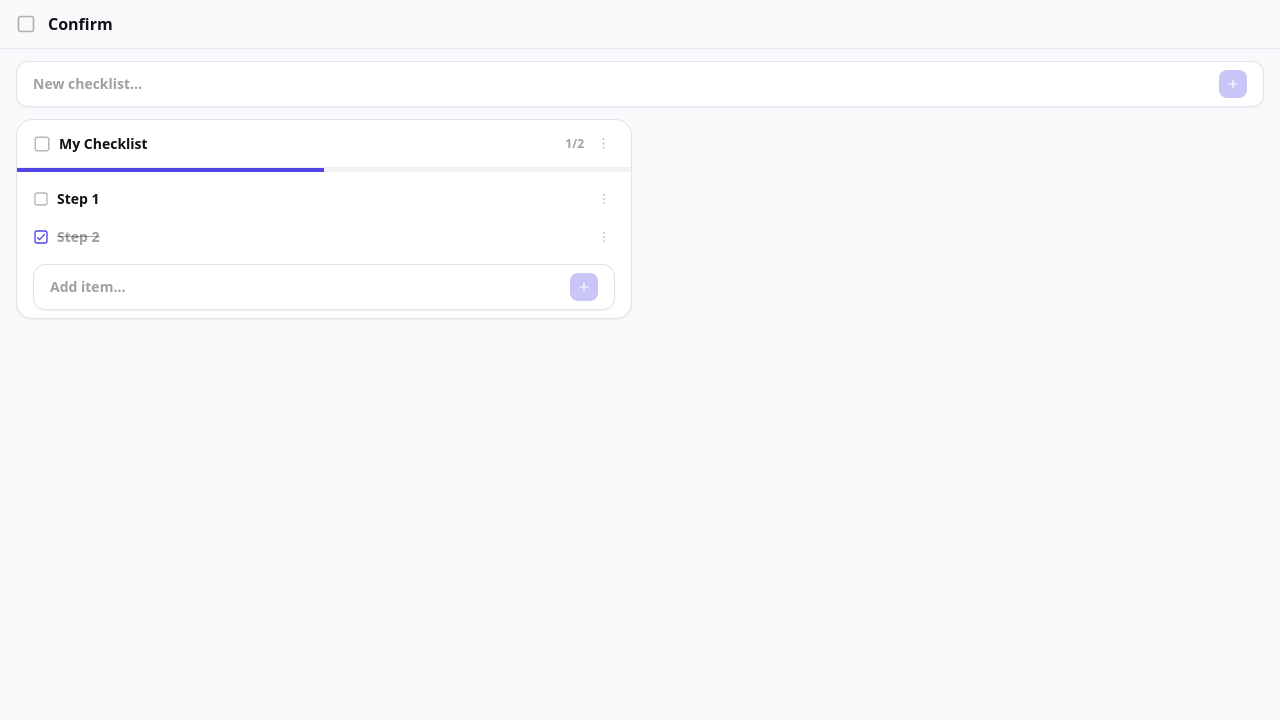
Test: Confirm › 4d-8: bulk mode toggle on checklist card shows checked icon
Click the button named "Toggle bulk select".
click(42, 144)  # box [33,134,51,152]
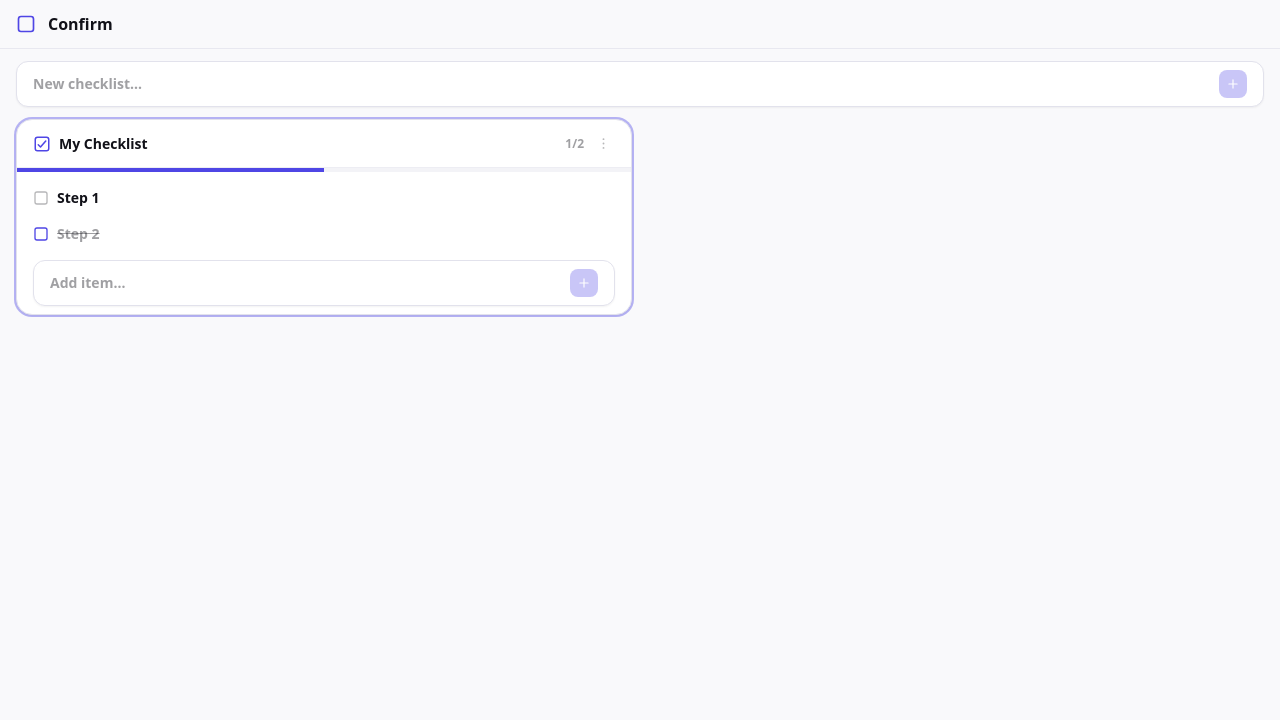
// In bulk mode, clicking item should select it (not toggle done)
Click the element named "Item: Step 1".
click(66, 198)  # box [33,188,100,207]
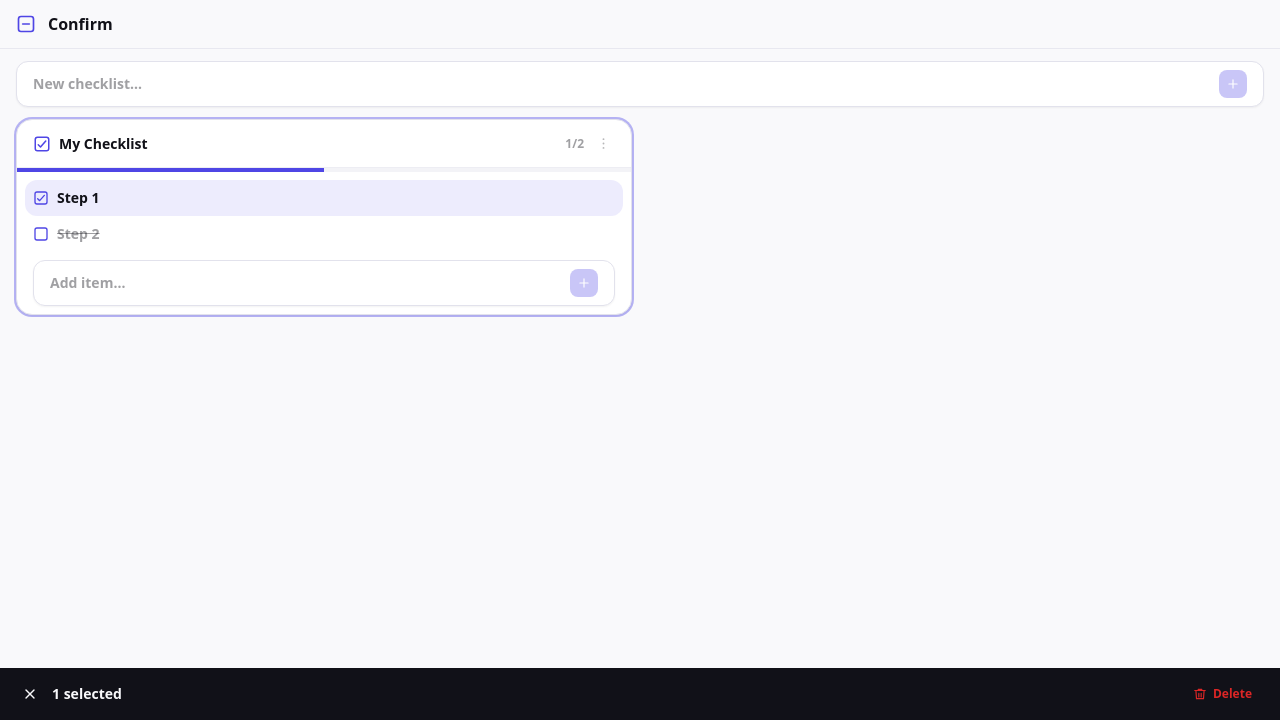
Now the text "1 selected" is shown, box [52,684,122,704]
